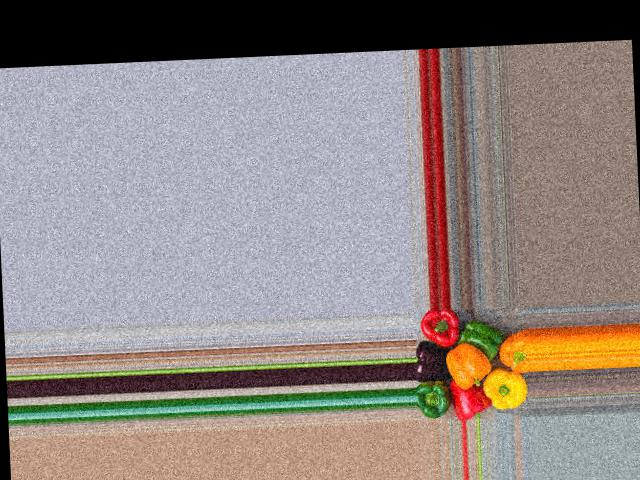bell_pepper: (488, 319, 526, 373)
